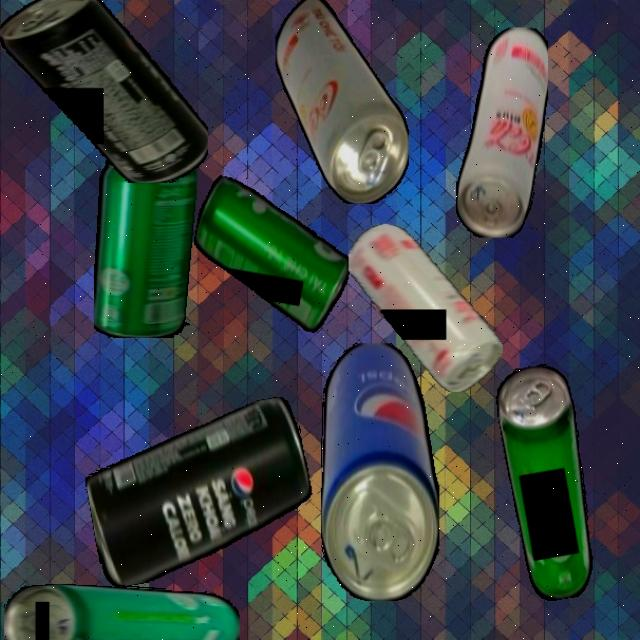debris: (77, 395, 322, 589), (0, 0, 208, 183), (320, 342, 439, 601), (183, 174, 361, 336), (491, 360, 606, 604), (274, 0, 408, 204), (348, 223, 502, 392), (455, 26, 548, 238), (94, 158, 196, 338), (4, 583, 240, 640)
